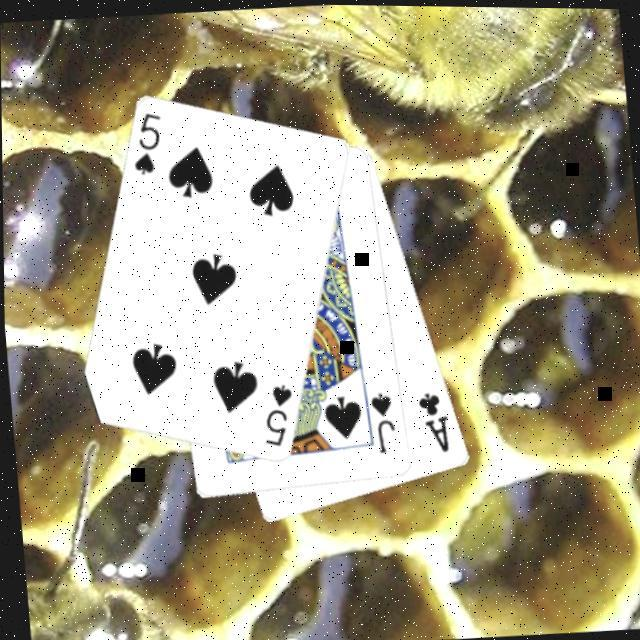5S: (257, 376, 301, 448), (127, 106, 169, 176)
AC: (414, 384, 456, 454)
JS: (367, 384, 401, 454)
